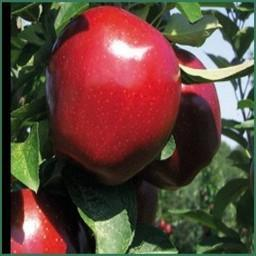apple: (47, 7, 183, 183), (142, 44, 222, 190), (10, 188, 97, 252)
